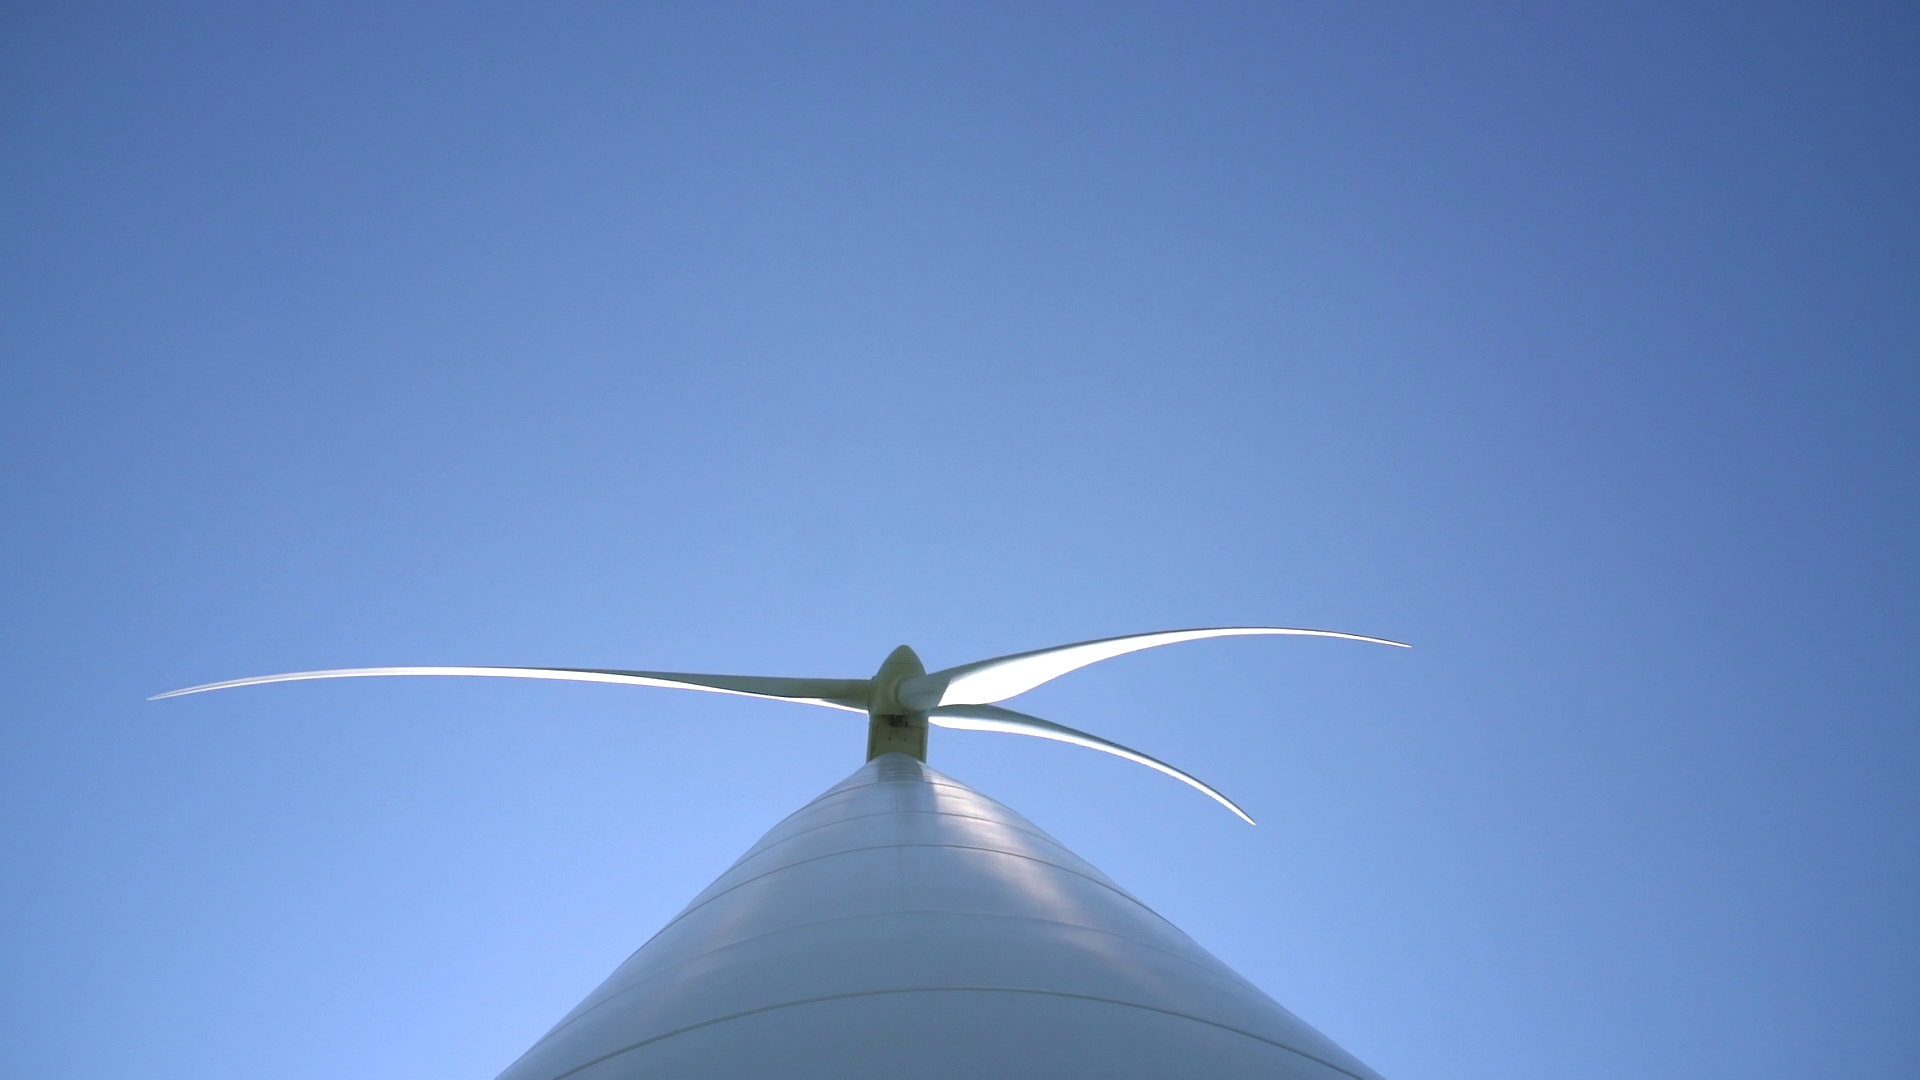turbine: (102, 624, 869, 746), (930, 687, 1287, 861), (945, 597, 1447, 709)
